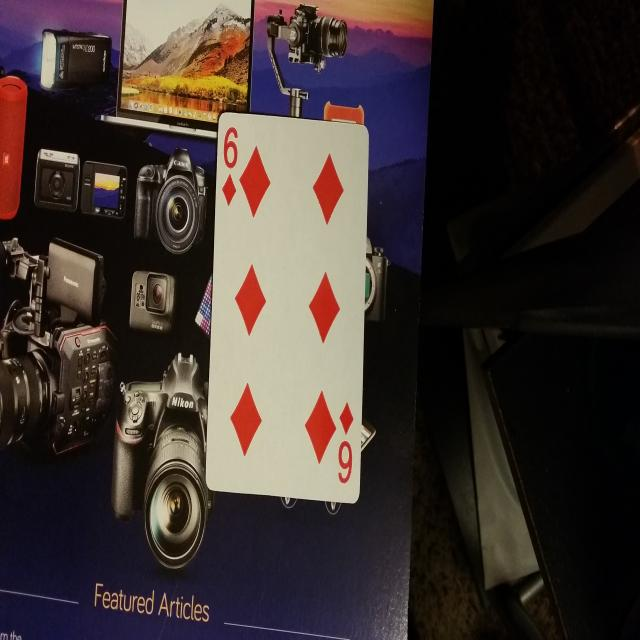6d: (218, 119, 252, 221), (333, 392, 359, 497)
